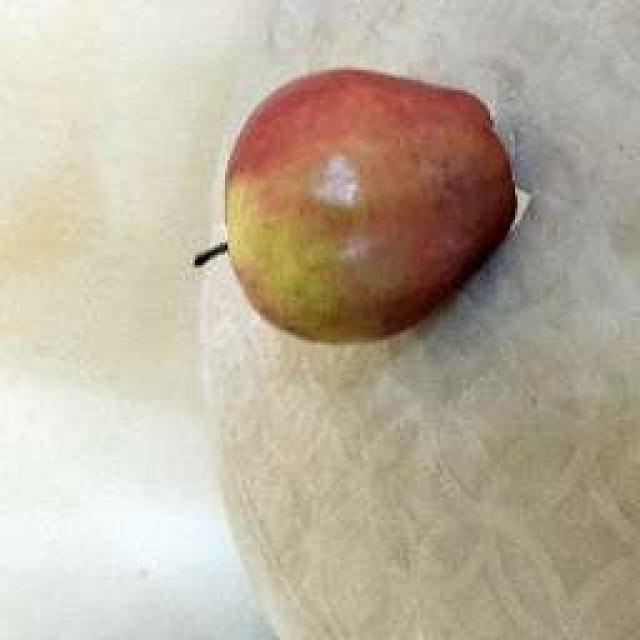Good_Apple: (200, 68, 520, 345)
